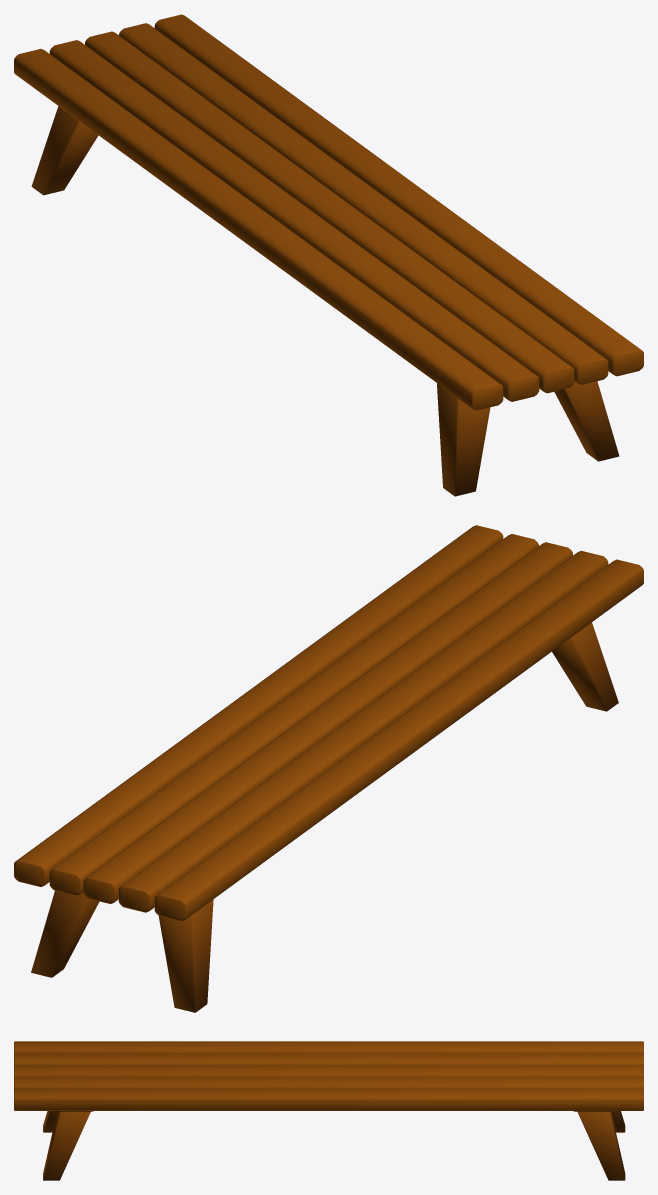
File: Bench.fbx
3 views of the same model, one above another, from view 1: azimuth 30°, elevation 25°; view 2: azimuth 150°, elevation 25°; view 3: azimuth 270°, elevation 25° (orthographic). The views are drawn at different scales.
Visible parts, largest first — view 1: Cube.001; view 2: Cube.001; view 3: Cube.001.
Boxes of the visible parts, x1=… form: Cube.001: x1=14, y1=14, x2=643, y2=496; Cube.001: x1=14, y1=525, x2=643, y2=1012; Cube.001: x1=14, y1=1041, x2=643, y2=1180.
Size of the model in its own units: 175 by 119 by 805.
